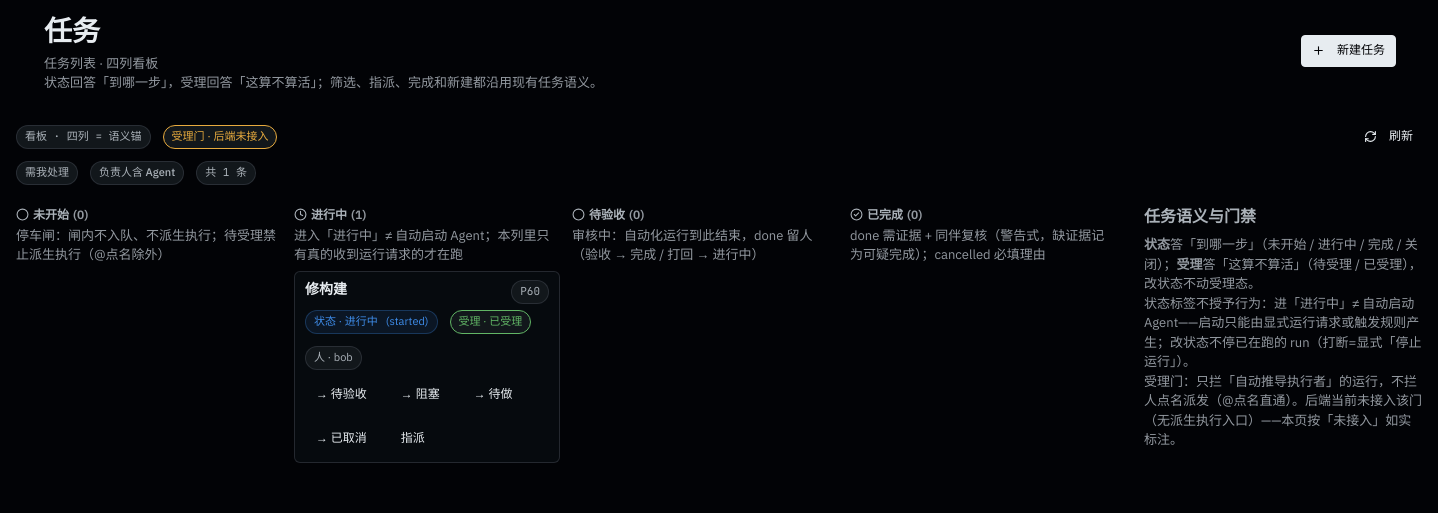
Test: 任务看板 · 视图过滤（board__af-109 / af-116） › 需我处理 / 负责人含 Agent 真打端点，且过滤状态可见可清
Click the button "需我处理": x=47, y=173 16,161 -> 78,185
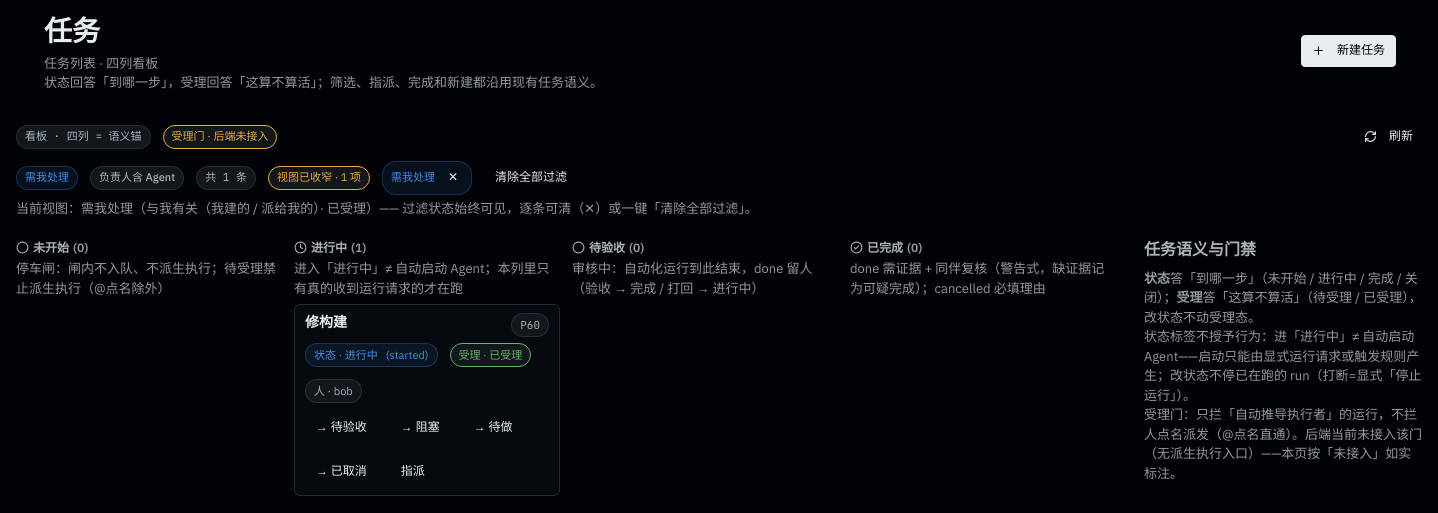
expect the text "视图已收窄 · 1 项" is shown: met, box 268,166 -> 370,190
expect the button named "清除过滤：需我处理" is shown: met, box 443,162 -> 463,194
Note: 负责人含 Agent
Click the button "负责人含 Agent": x=137, y=178 90,166 -> 184,190
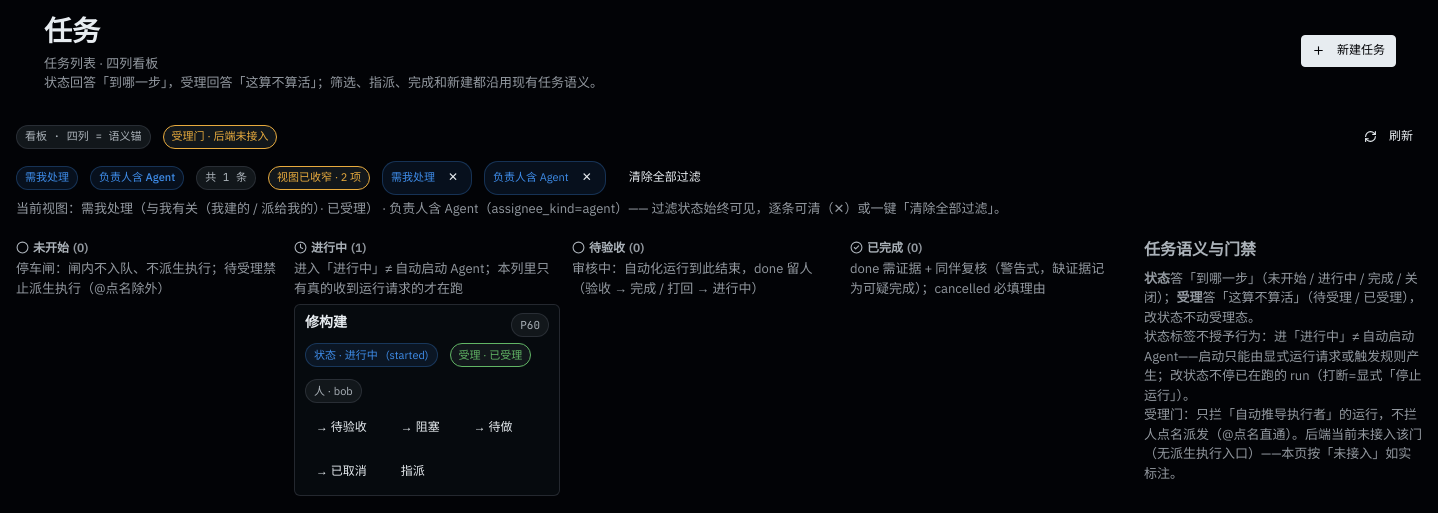
Click the button named "清除过滤：需我处理": x=453, y=178 443,162 -> 463,194
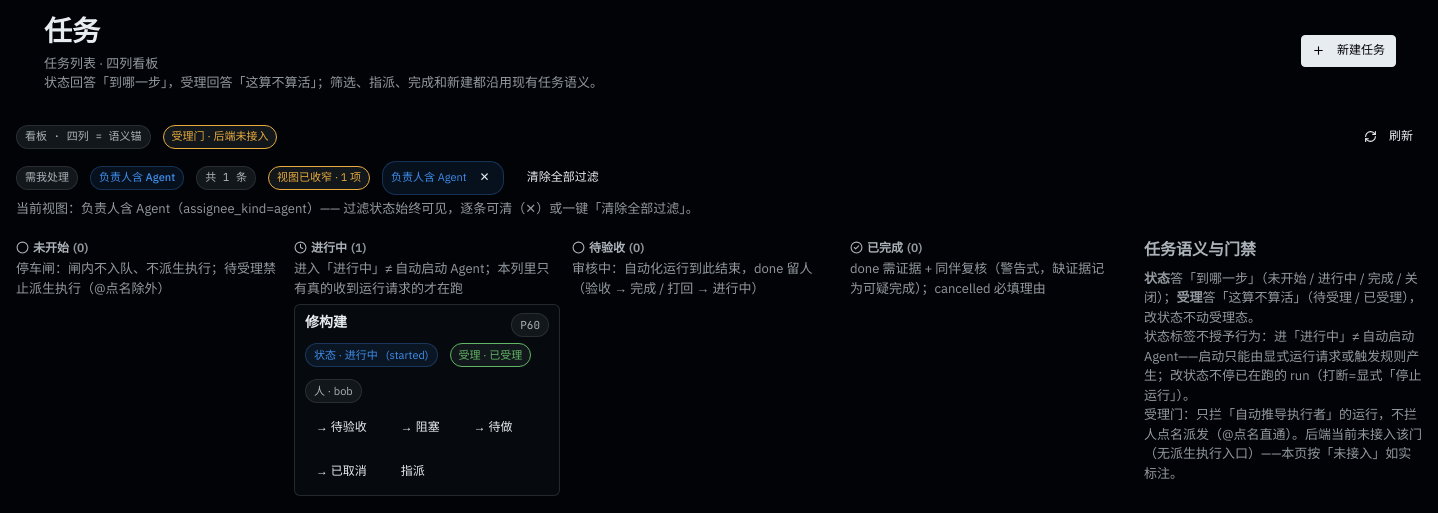
Click the button "清除全部过滤": x=563, y=178 516,162 -> 610,194
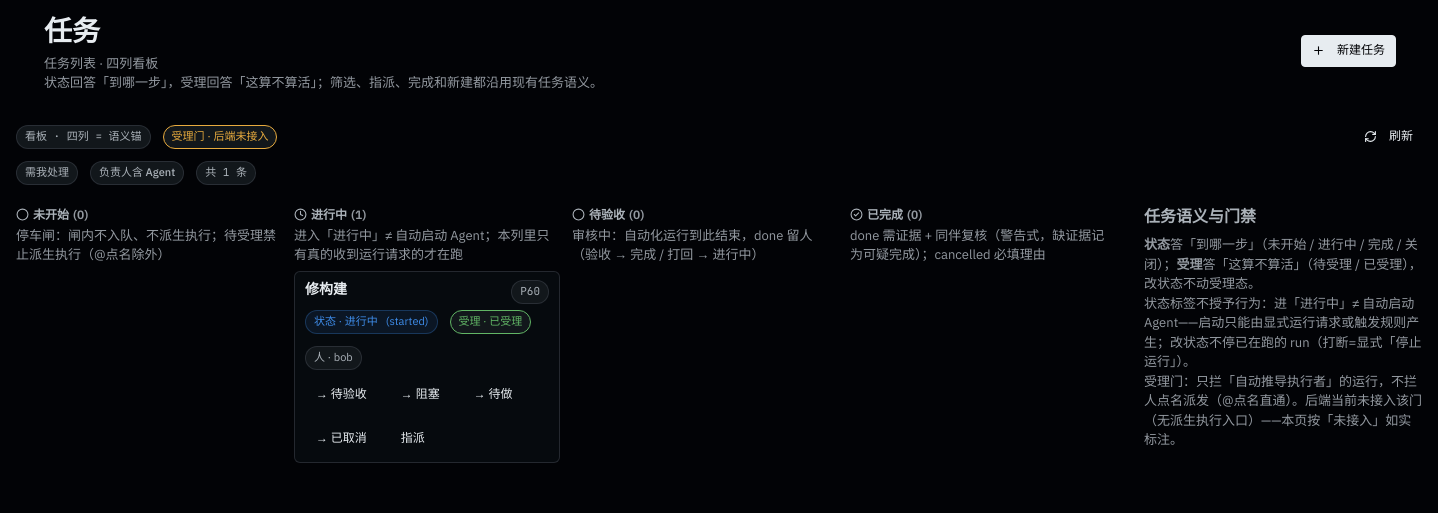
expect the text "视图已收窄" is gone: met
